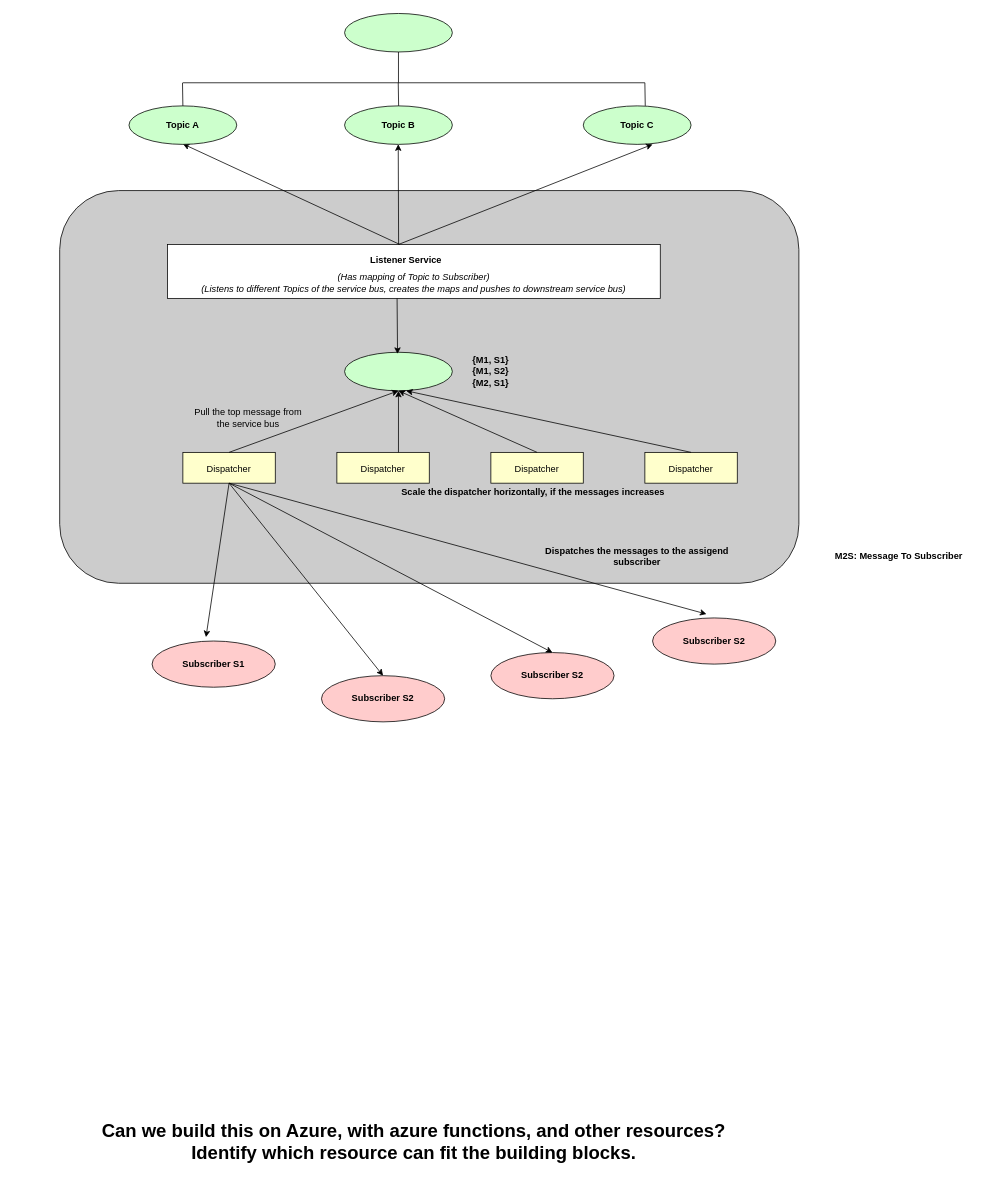
This 1004x1177 diagram has some shape labels left out. Here are the shapes that lost their labels. From the top down, the centre of each, then its label:
point 398,32: Service Bus
point 398,371: Topic: [M2S]
